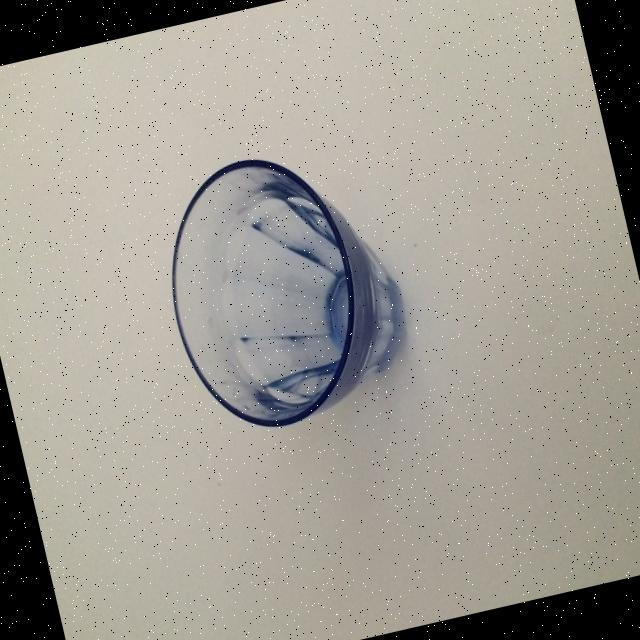glass: (143, 130, 424, 444)
